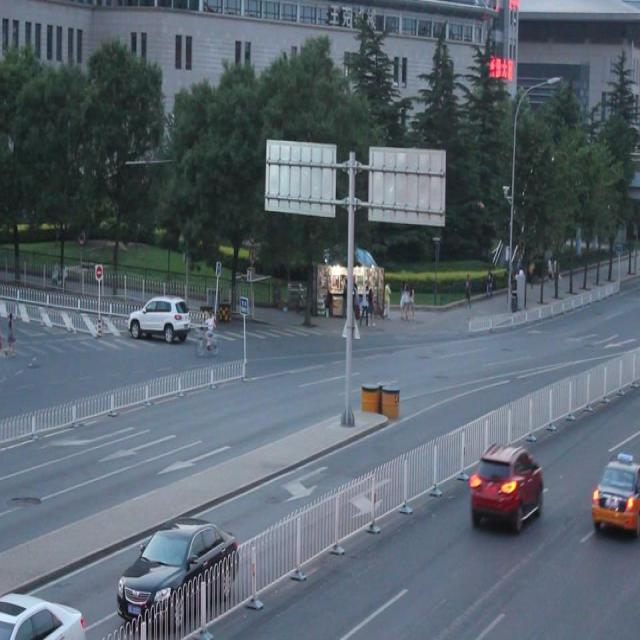car: (116, 519, 239, 624), (467, 441, 542, 534), (1, 584, 87, 640), (589, 451, 640, 537), (128, 294, 190, 342)
